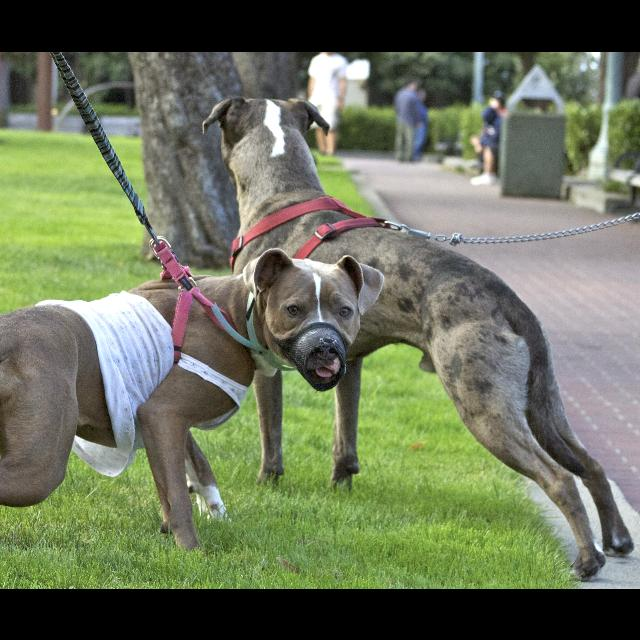am_pit_bull_terrier: (201, 96, 635, 583), (1, 248, 385, 555)
